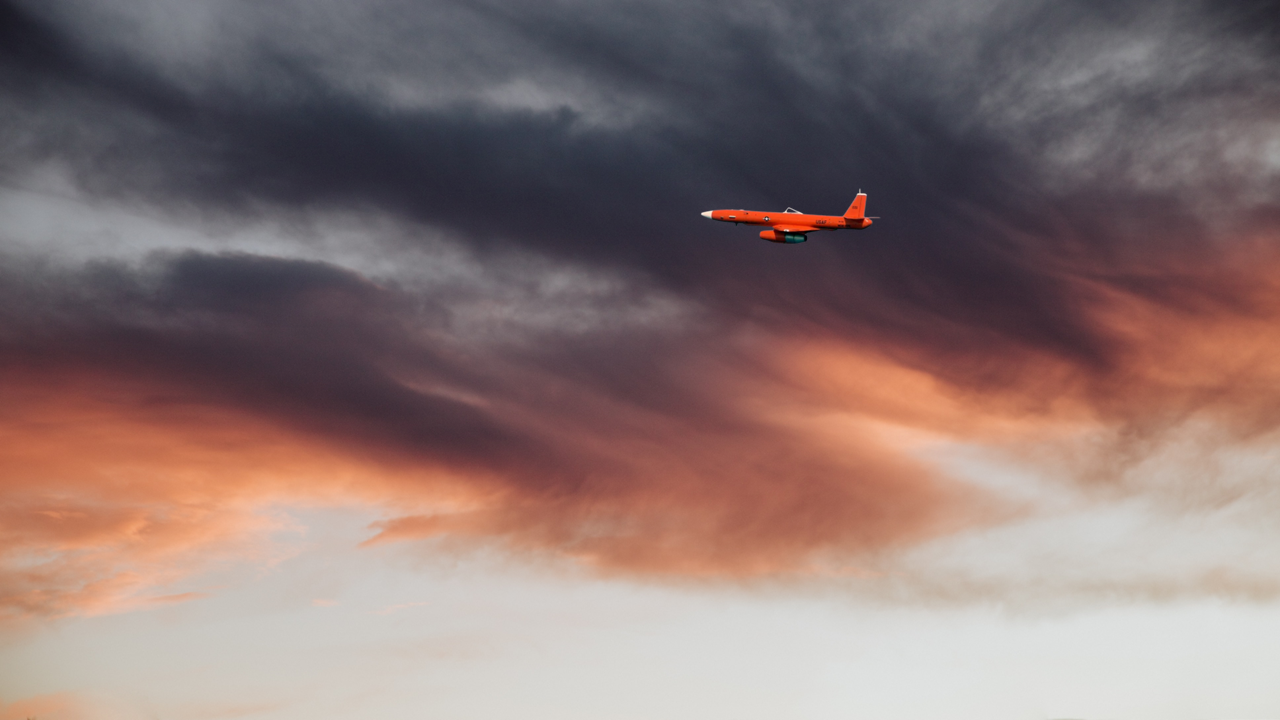military drone: (700, 192, 880, 243)
